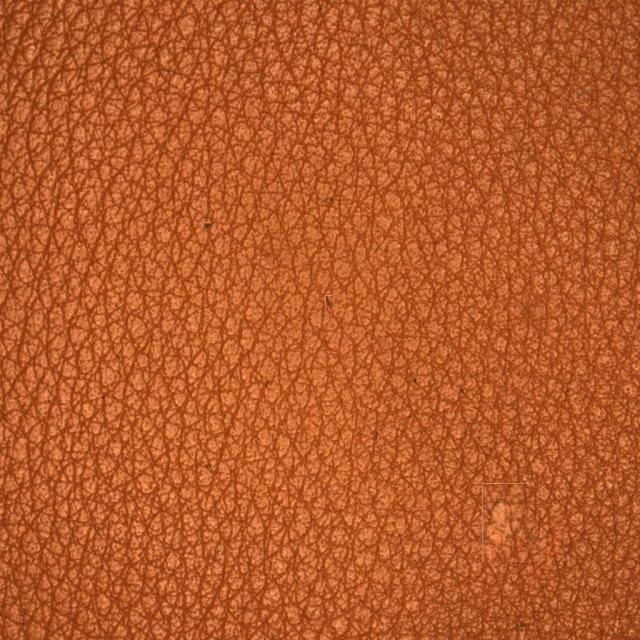Scratch: (433, 396, 579, 598)
pinhole: (154, 144, 258, 308)
